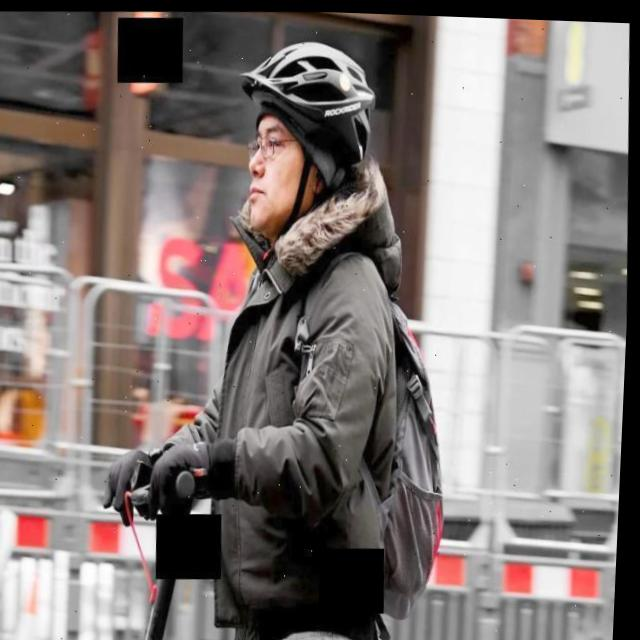helmet: (232, 34, 392, 246)
